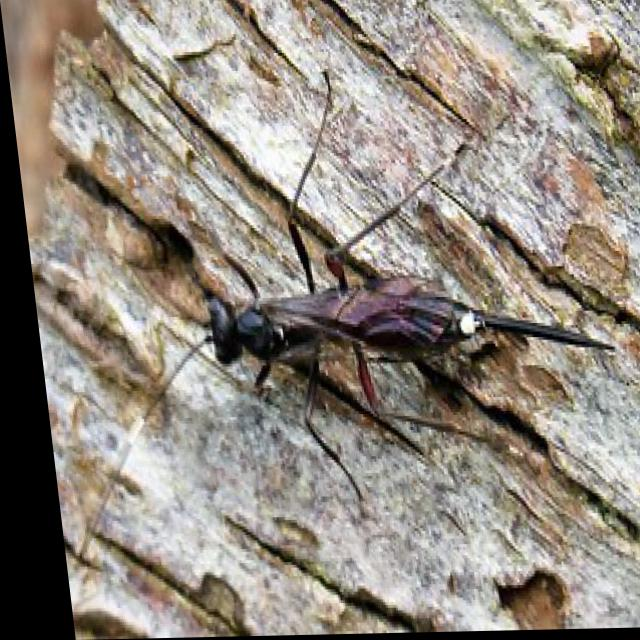Guepe: (74, 63, 639, 512)
